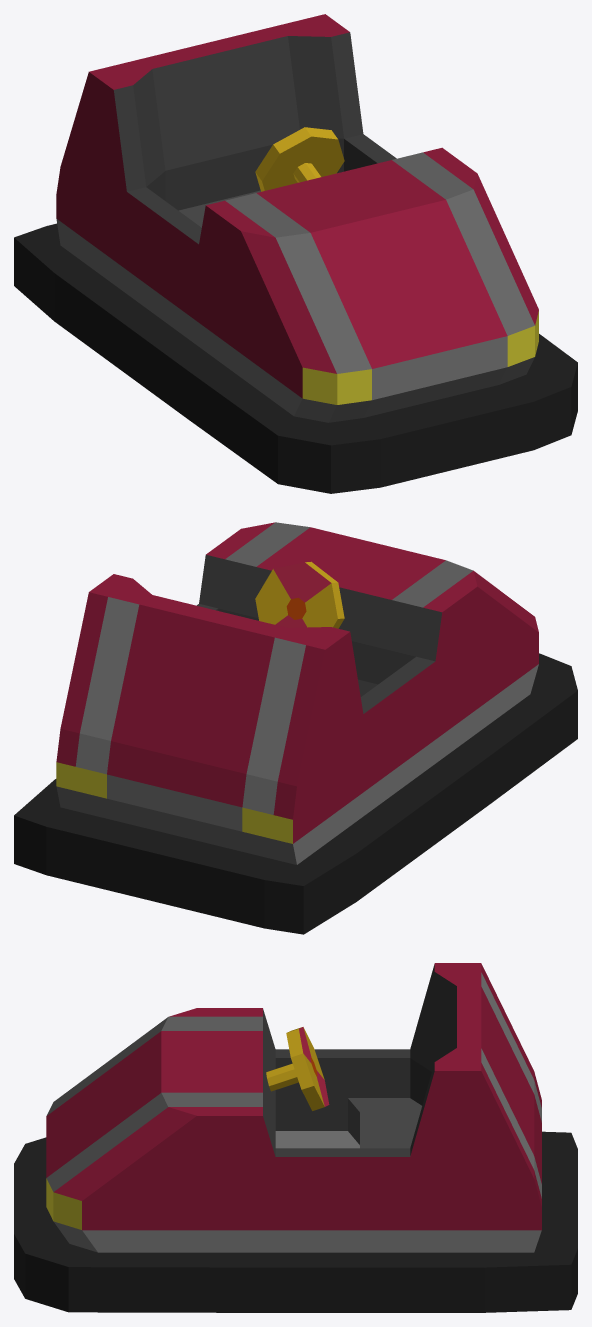
Rendered from BumperCar01.fbx.
3 views of the same model, one above another, from view 1: azimuth 30°, elevation 25°; view 2: azimuth 150°, elevation 25°; view 3: azimuth 270°, elevation 25° (orthographic). The views are drawn at different scales.
Visible parts, largest first — view 1: BumperCar01; view 2: BumperCar01; view 3: BumperCar01.
Boxes of the visible parts, left/top/right/bottom form: BumperCar01: left=14, top=14, right=577, bottom=493; BumperCar01: left=14, top=522, right=577, bottom=934; BumperCar01: left=14, top=963, right=577, bottom=1312.
Bounding box in the file's own units: 132 × 101 × 228.
